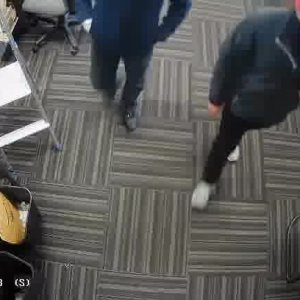person: (193, 0, 300, 214), (83, 0, 180, 132)
